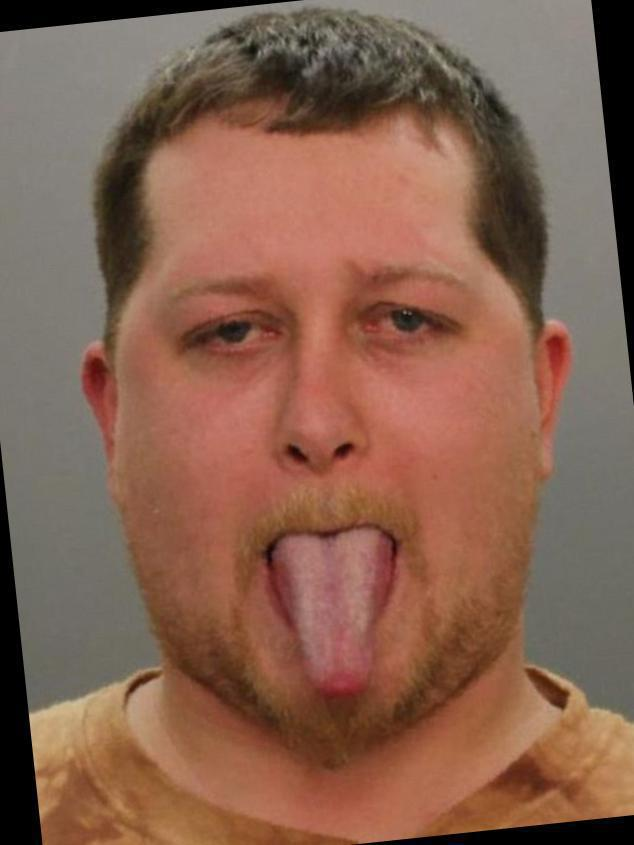Drunk: (143, 120, 518, 726)
